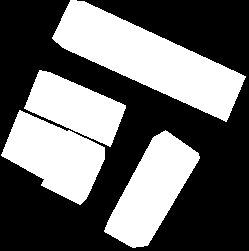parkingspot: (52, 0, 245, 121), (104, 130, 199, 247), (24, 70, 125, 146), (41, 130, 104, 204), (1, 110, 67, 179)
